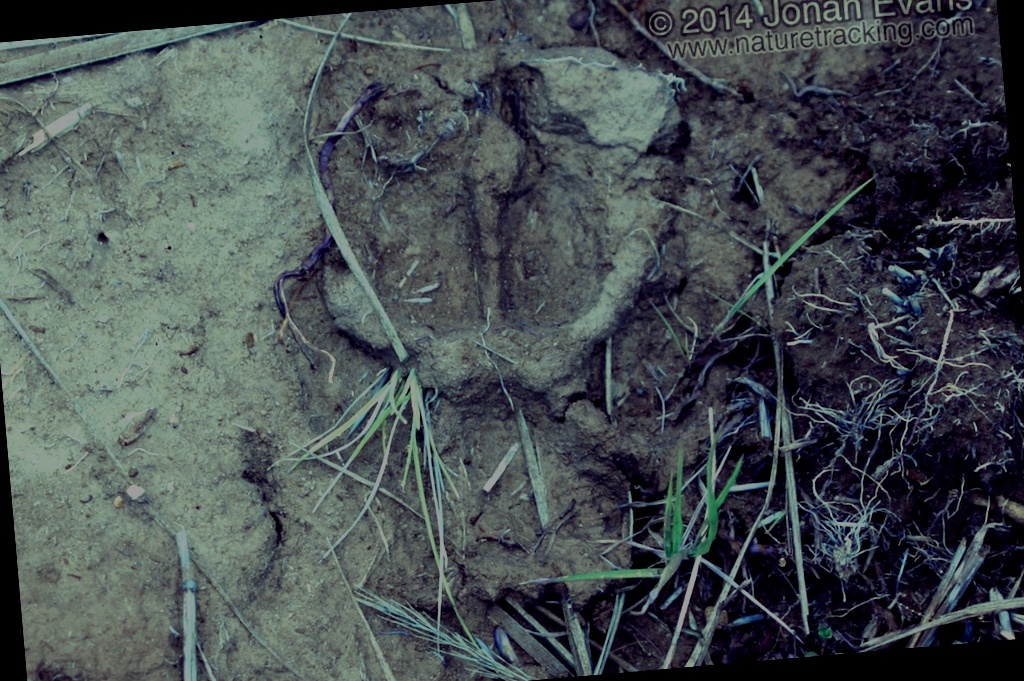loup: (173, 0, 834, 664)
